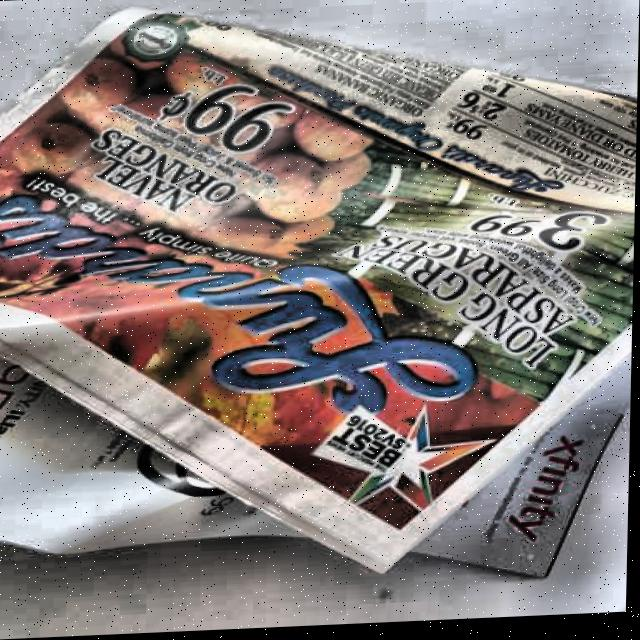paper: (0, 0, 640, 606)
